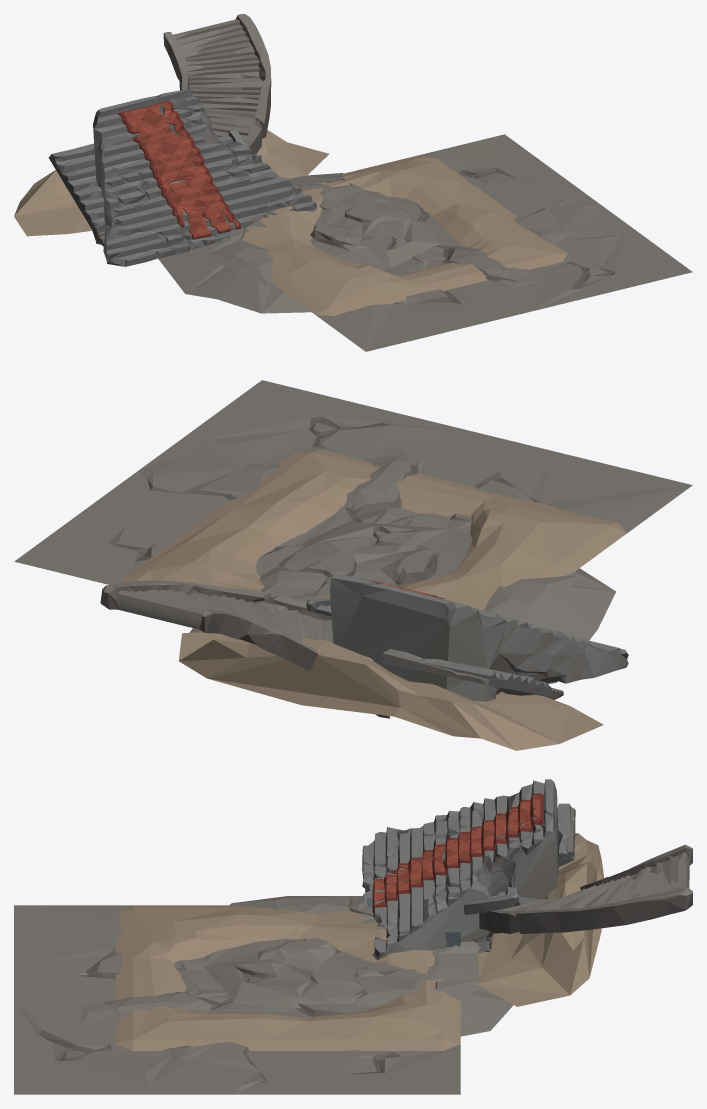
File: Floors.fbx
The picture shows the model from 3 angles, top to bottom: view 1: azimuth 30°, elevation 25°; view 2: azimuth 150°, elevation 25°; view 3: azimuth 270°, elevation 25°; orthographic projection. The views are drawn at different scales.
Visible parts, largest first — view 1: SM_Env_CrackedRock_02, SM_Env_Ground_Pit_01, SM_Env_Stairs_Large_01, SM_Env_CrackedRock_01, SM_Env_SpiralStairs_01, SM_Env_Stairs_Large_02, SM_Env_GroundMound_Edge_01, SM_Env_CrackedRock_03, SM_Env_Stairs_01; view 2: SM_Env_CrackedRock_02, SM_Env_Ground_Pit_01, SM_Env_GroundMound_Edge_01, SM_Env_Stairs_Large_01, SM_Env_CrackedRock_01, SM_Env_SpiralStairs_01, SM_Env_Stairs_Large_02, SM_Env_CrackedRock_03, SM_Env_Stairs_01, SM_Env_Stairs_02; view 3: SM_Env_CrackedRock_02, SM_Env_Ground_Pit_01, SM_Env_Stairs_Large_01, SM_Env_CrackedRock_01, SM_Env_SpiralStairs_01, SM_Env_GroundMound_Edge_01, SM_Env_Stairs_Large_02, SM_Env_CrackedRock_03, SM_Env_SpiralStairs_02, SM_Env_Stairs_01.
Part boxes in pixels (x1=…): SM_Env_CrackedRock_02: x1=316, y1=134, x2=692, y2=351; SM_Env_Ground_Pit_01: x1=242, y1=155, x2=567, y2=316; SM_Env_Stairs_Large_01: x1=93, y1=89, x2=316, y2=266; SM_Env_CrackedRock_01: x1=200, y1=173, x2=440, y2=286; SM_Env_SpiralStairs_01: x1=163, y1=14, x2=271, y2=154; SM_Env_Stairs_Large_02: x1=93, y1=100, x2=292, y2=266; SM_Env_GroundMound_Edge_01: x1=14, y1=130, x2=329, y2=236; SM_Env_CrackedRock_03: x1=158, y1=248, x2=311, y2=313; SM_Env_Stairs_01: x1=49, y1=144, x2=105, y2=234; SM_Env_CrackedRock_02: x1=14, y1=380, x2=692, y2=584; SM_Env_Ground_Pit_01: x1=123, y1=449, x2=626, y2=610; SM_Env_GroundMound_Edge_01: x1=179, y1=632, x2=603, y2=750; SM_Env_Stairs_Large_01: x1=330, y1=572, x2=628, y2=701; SM_Env_CrackedRock_01: x1=259, y1=521, x2=577, y2=624; SM_Env_SpiralStairs_01: x1=100, y1=580, x2=389, y2=718; SM_Env_Stairs_Large_02: x1=370, y1=580, x2=628, y2=701; SM_Env_CrackedRock_03: x1=189, y1=568, x2=615, y2=684; SM_Env_Stairs_01: x1=381, y1=649, x2=551, y2=696; SM_Env_Stairs_02: x1=381, y1=650, x2=551, y2=693; SM_Env_CrackedRock_02: x1=14, y1=905, x2=460, y2=1094; SM_Env_Ground_Pit_01: x1=115, y1=905, x2=460, y2=1050; SM_Env_Stairs_Large_01: x1=362, y1=779, x2=558, y2=959; SM_Env_CrackedRock_01: x1=204, y1=896, x2=480, y2=1008; SM_Env_SpiralStairs_01: x1=479, y1=844, x2=692, y2=933; SM_Env_GroundMound_Edge_01: x1=477, y1=833, x2=604, y2=1006; SM_Env_Stairs_Large_02: x1=362, y1=793, x2=556, y2=959; SM_Env_CrackedRock_03: x1=460, y1=985, x2=513, y2=1036; SM_Env_SpiralStairs_02: x1=463, y1=887, x2=518, y2=914; SM_Env_Stairs_01: x1=557, y1=803, x2=574, y2=867.
Size of the model in its own units: 2819 by 3019 by 745.
